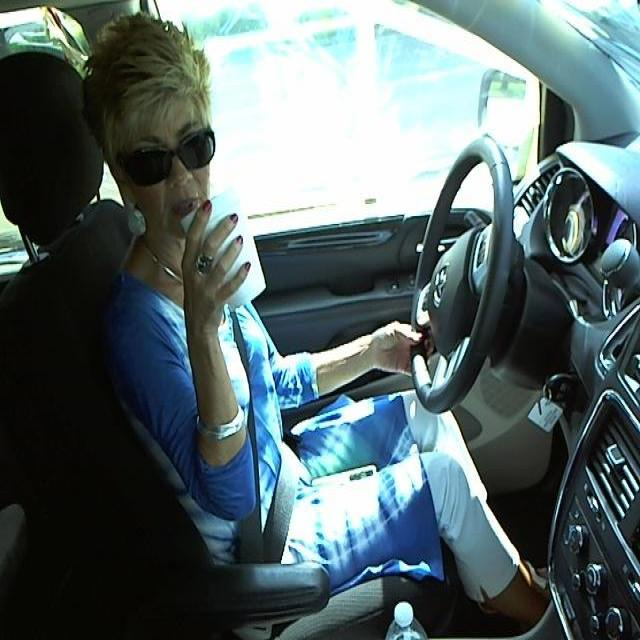drinking: (175, 179, 268, 313)
